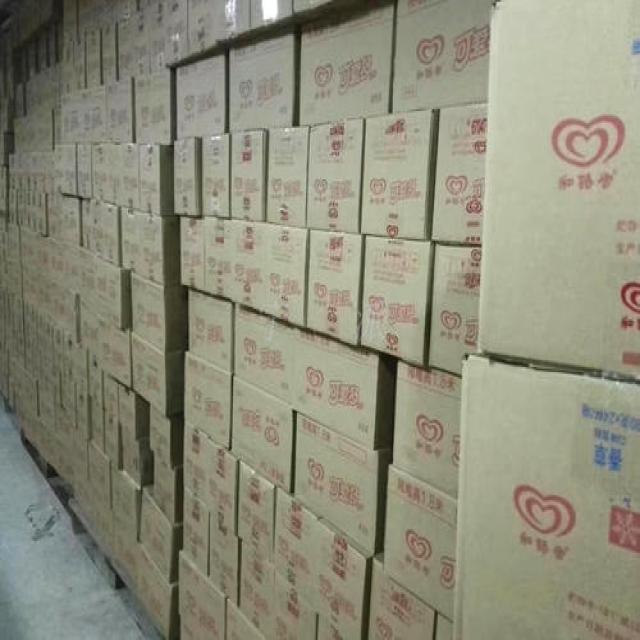box: (477, 0, 640, 382), (453, 358, 640, 640), (294, 411, 379, 558), (296, 331, 398, 451), (300, 0, 394, 125), (384, 464, 456, 623), (392, 0, 489, 113), (361, 109, 439, 239), (360, 236, 433, 367), (393, 358, 460, 498), (431, 101, 486, 244), (230, 375, 293, 495), (233, 304, 301, 408), (429, 242, 481, 377), (307, 229, 365, 348), (307, 118, 365, 234), (229, 29, 294, 131), (273, 486, 324, 609), (369, 548, 435, 640), (320, 524, 366, 640), (183, 352, 232, 449), (131, 271, 187, 353), (266, 126, 310, 229), (122, 207, 180, 285), (265, 224, 307, 328), (177, 53, 227, 137), (132, 333, 182, 416), (81, 247, 131, 329), (179, 551, 225, 640), (237, 461, 274, 568), (188, 288, 233, 374), (138, 481, 173, 584), (239, 541, 275, 640), (136, 544, 172, 638), (90, 143, 141, 208), (230, 130, 266, 222), (232, 218, 266, 312), (273, 573, 319, 640), (209, 507, 239, 608), (134, 67, 170, 145), (82, 200, 122, 266), (138, 142, 172, 217), (207, 440, 238, 522), (99, 314, 132, 389), (201, 133, 230, 218), (183, 486, 209, 579), (110, 463, 141, 539), (183, 422, 211, 505), (173, 137, 200, 215), (152, 454, 182, 524), (205, 217, 230, 299), (150, 404, 182, 468), (105, 77, 134, 142), (180, 217, 205, 292), (47, 191, 82, 244), (227, 597, 268, 640), (114, 521, 138, 592), (122, 430, 151, 488), (119, 386, 150, 440), (212, 0, 250, 44), (163, 0, 187, 68), (187, 0, 215, 55), (250, 0, 293, 32), (79, 295, 101, 357), (82, 85, 105, 143), (54, 143, 77, 196), (317, 608, 355, 640), (60, 90, 82, 142), (77, 143, 92, 198), (436, 613, 453, 640)
